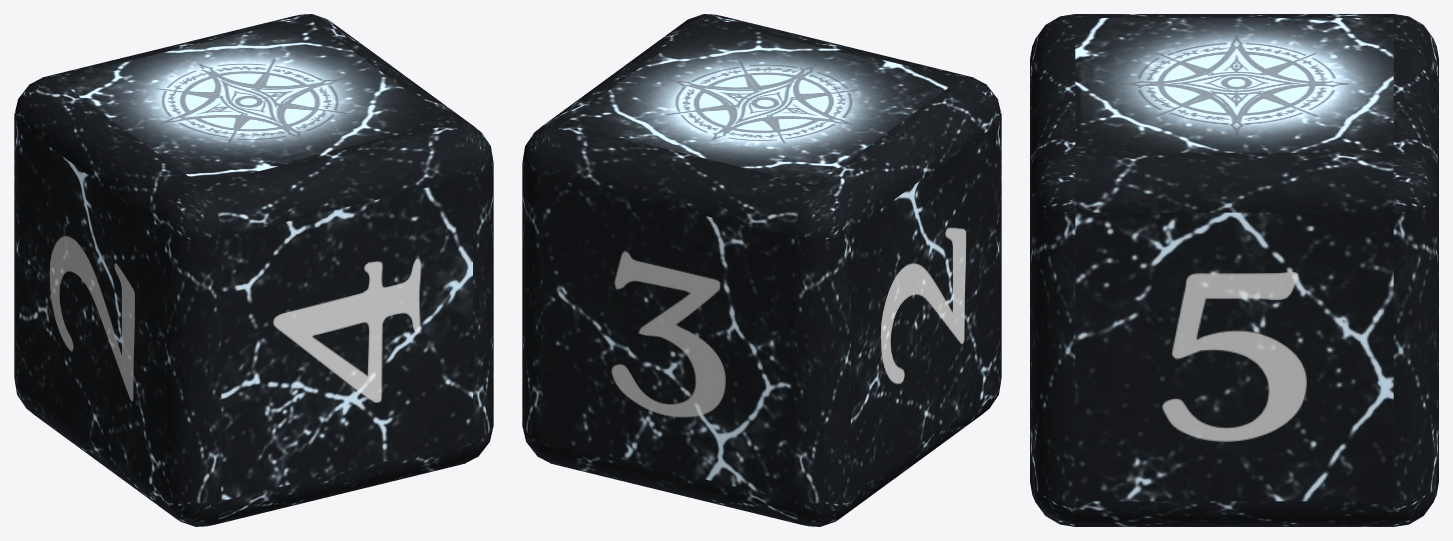
File: d6_path_echoes.glb
The picture shows the model from 3 angles, left to right: view 1: azimuth 30°, elevation 25°; view 2: azimuth 150°, elevation 25°; view 3: azimuth 270°, elevation 25°; orthographic projection. The views are drawn at different scales.
Parts seen in each view (by area): view 1: d6; view 2: d6; view 3: d6.
Part boxes in pixels (x1=…): d6: x1=14, y1=14, x2=493, y2=526; d6: x1=522, y1=14, x2=1001, y2=526; d6: x1=1030, y1=14, x2=1438, y2=526.
Bounding box in the file's own units: 104 × 104 × 104.
1 material, 1 textured.
